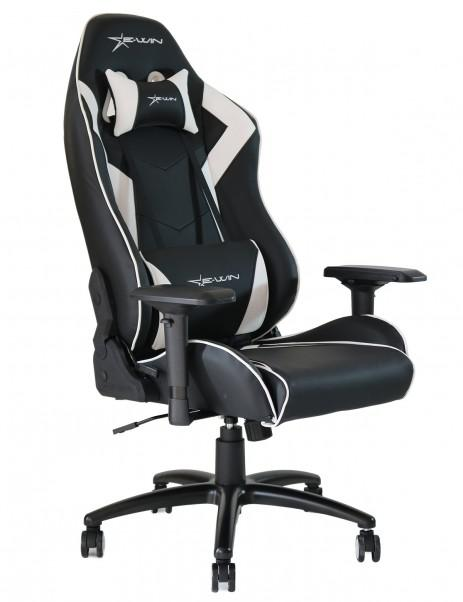chair: (48, 9, 436, 598)
